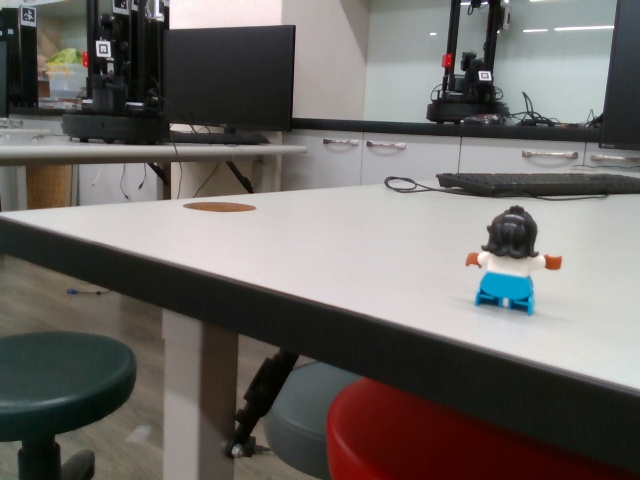people: (464, 205, 568, 316)
